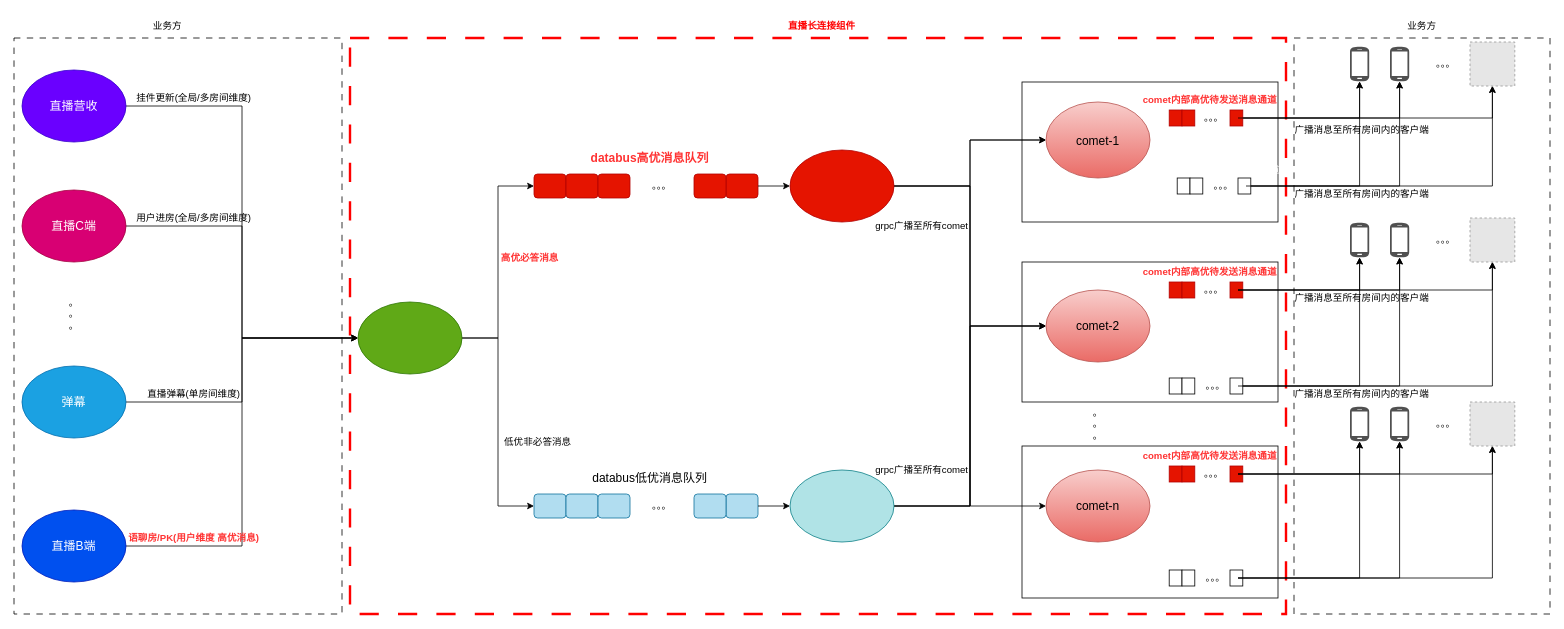
Image size: 1564x629. Some labels were removed from this diagram. Grey dashed boxes stand in for pictures. Each missing label, with the centre of its shape:
broadcast-proxy: the point at 409,337
低优broadcast-job: the point at 841,505
高优broadcast-job: the point at 841,185
